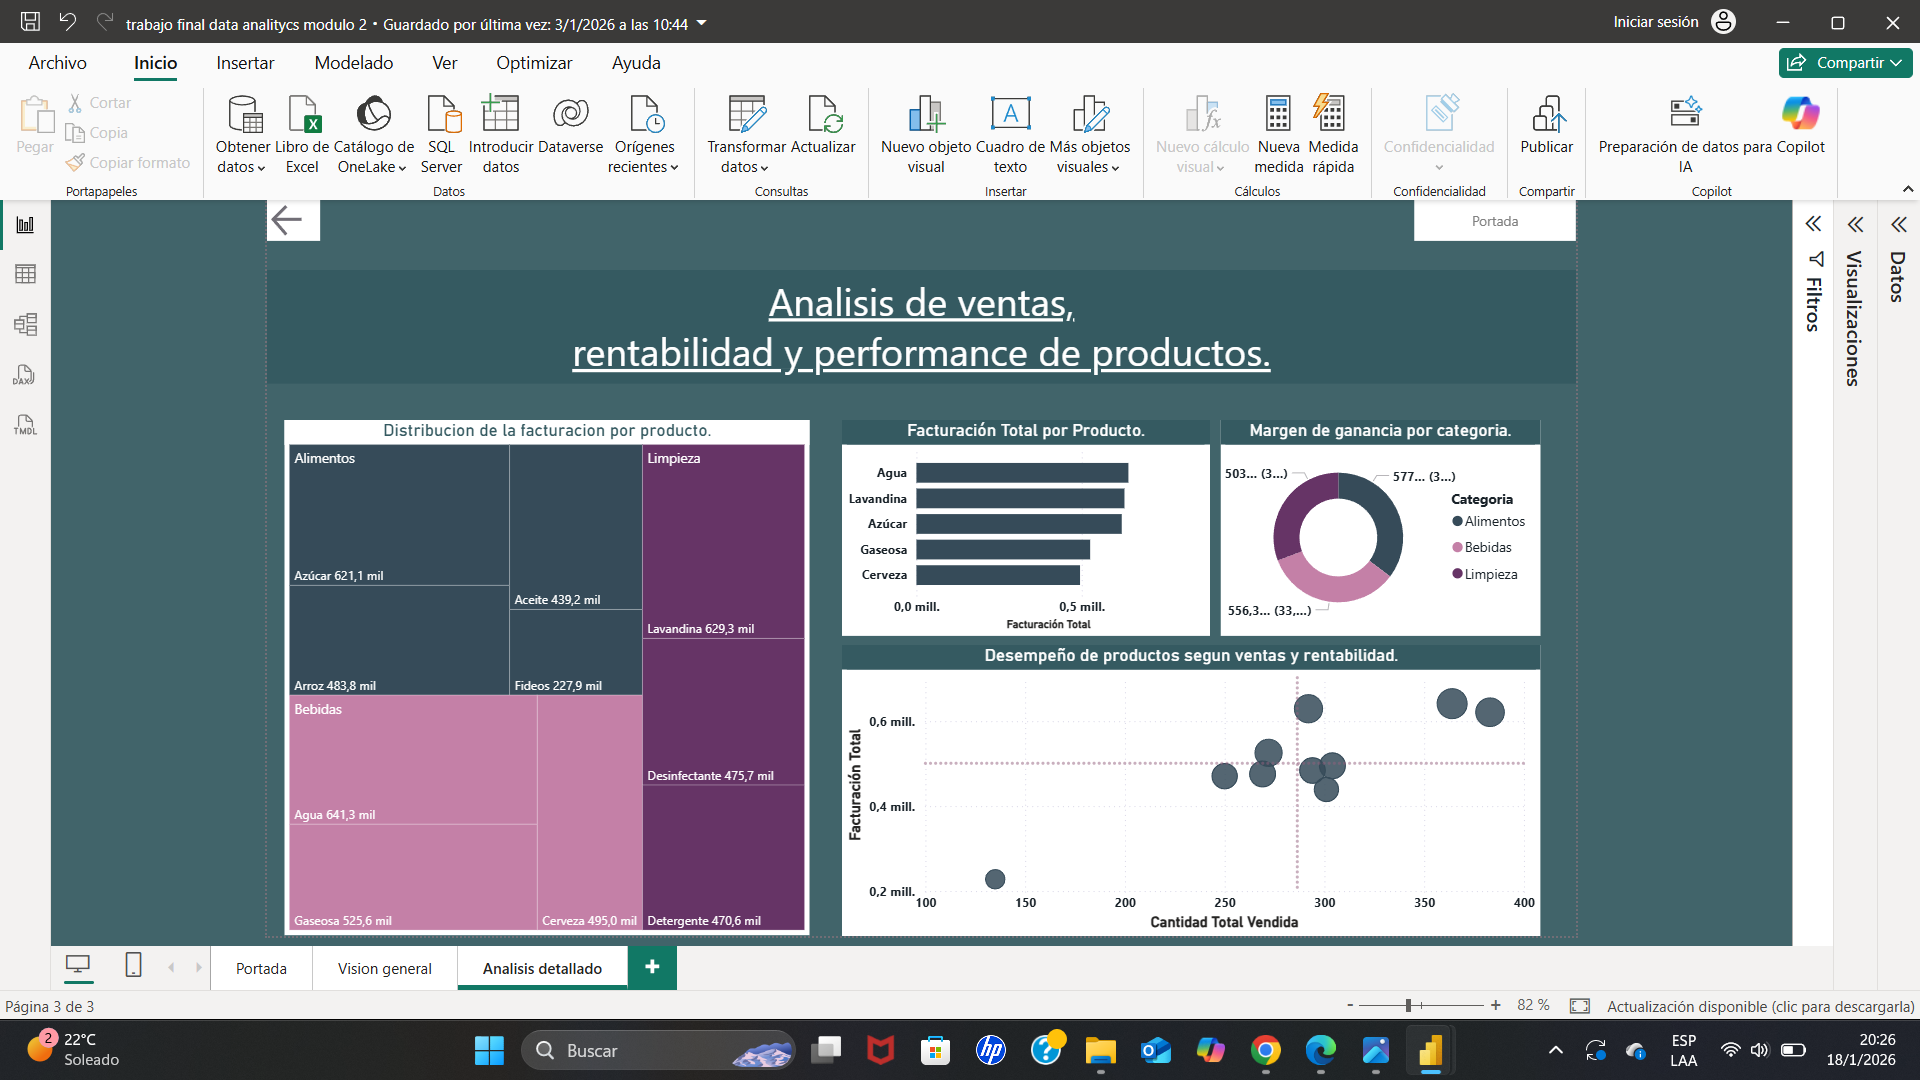

Layout of this report page (visuals, bound fields, positions):
{"tool":"powerbi","page":{"name":"Analisis detallado","canvas":[1280,720],"ordinal":2},"visuals":[{"type":"clusteredBarChart","title":"Facturación Total por Producto.","fields":{"Category":["Ventas.Producto"],"Y":["Medidas.Facturación Total"]},"box":[562.5,215.3,359.7,211.1],"z":0},{"type":"scatterChart","title":"Desempeño de productos segun ventas y rentabilidad.","fields":{"X":["Medidas.Cantidad Total Vendida"],"Y":["Medidas.Facturación Total"],"Size":["Medidas.Ganancia Total"],"Category":["Ventas.Producto"]},"box":[562.5,434.7,683.3,284.7],"z":1000},{"type":"treemap","title":"Distribucion de la facturacion por producto.","fields":{"Details":["Ventas.Producto"],"Values":["Medidas.Facturación Total"],"Group":["Ventas.Categoria"]},"box":[16.7,215.3,513.9,504.2],"z":2000},{"type":"donutChart","title":"Margen de ganancia por categoria.","fields":{"Category":["Ventas.Categoria"],"Y":["Medidas.Ganancia Total"]},"box":[933.3,215.3,312.5,211.1],"z":3000},{"type":"textbox","box":[0,68.1,1280.6,111.1],"z":4000},{"type":"actionButton","box":[0,0,52.1,39.8],"z":4002},{"type":"actionButton","box":[1122.5,0,157.8,39.8],"z":4003}]}

Visuals, with their boxes on the page's 1280x720 design canvas (x1, y1, x2, y2). These are canvas units, not pixel positions in the 1920x1080 screenshot, which may show the page scaled, cropped or inside an application window:
"Facturación Total por Producto." clusteredBarChart: x1=562, y1=215, x2=922, y2=426
"Desempeño de productos segun ventas y rentabilidad." scatterChart: x1=562, y1=435, x2=1246, y2=719
"Distribucion de la facturacion por producto." treemap: x1=17, y1=215, x2=531, y2=720
"Margen de ganancia por categoria." donutChart: x1=933, y1=215, x2=1246, y2=426
textbox: x1=0, y1=68, x2=1281, y2=179
actionButton: x1=0, y1=0, x2=52, y2=40
actionButton: x1=1122, y1=0, x2=1280, y2=40
